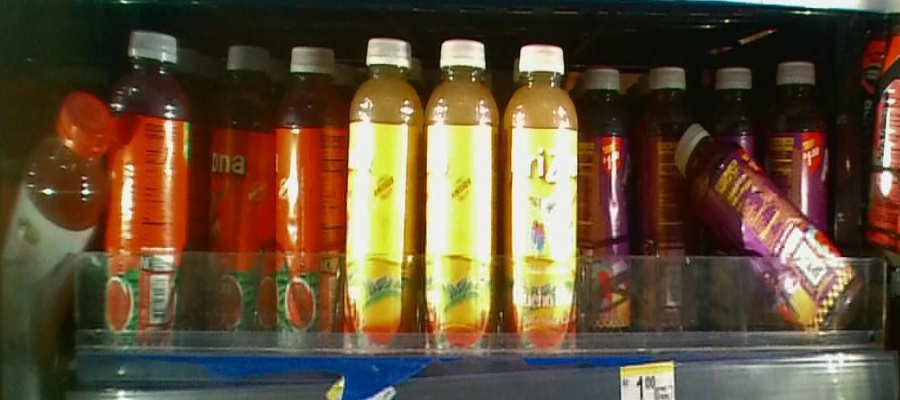bottle: (104, 13, 190, 363), (423, 16, 499, 352), (346, 23, 419, 361), (198, 33, 273, 344), (504, 23, 577, 338), (766, 51, 837, 359), (277, 38, 343, 349), (634, 47, 691, 341), (578, 40, 631, 338), (710, 59, 763, 341)
